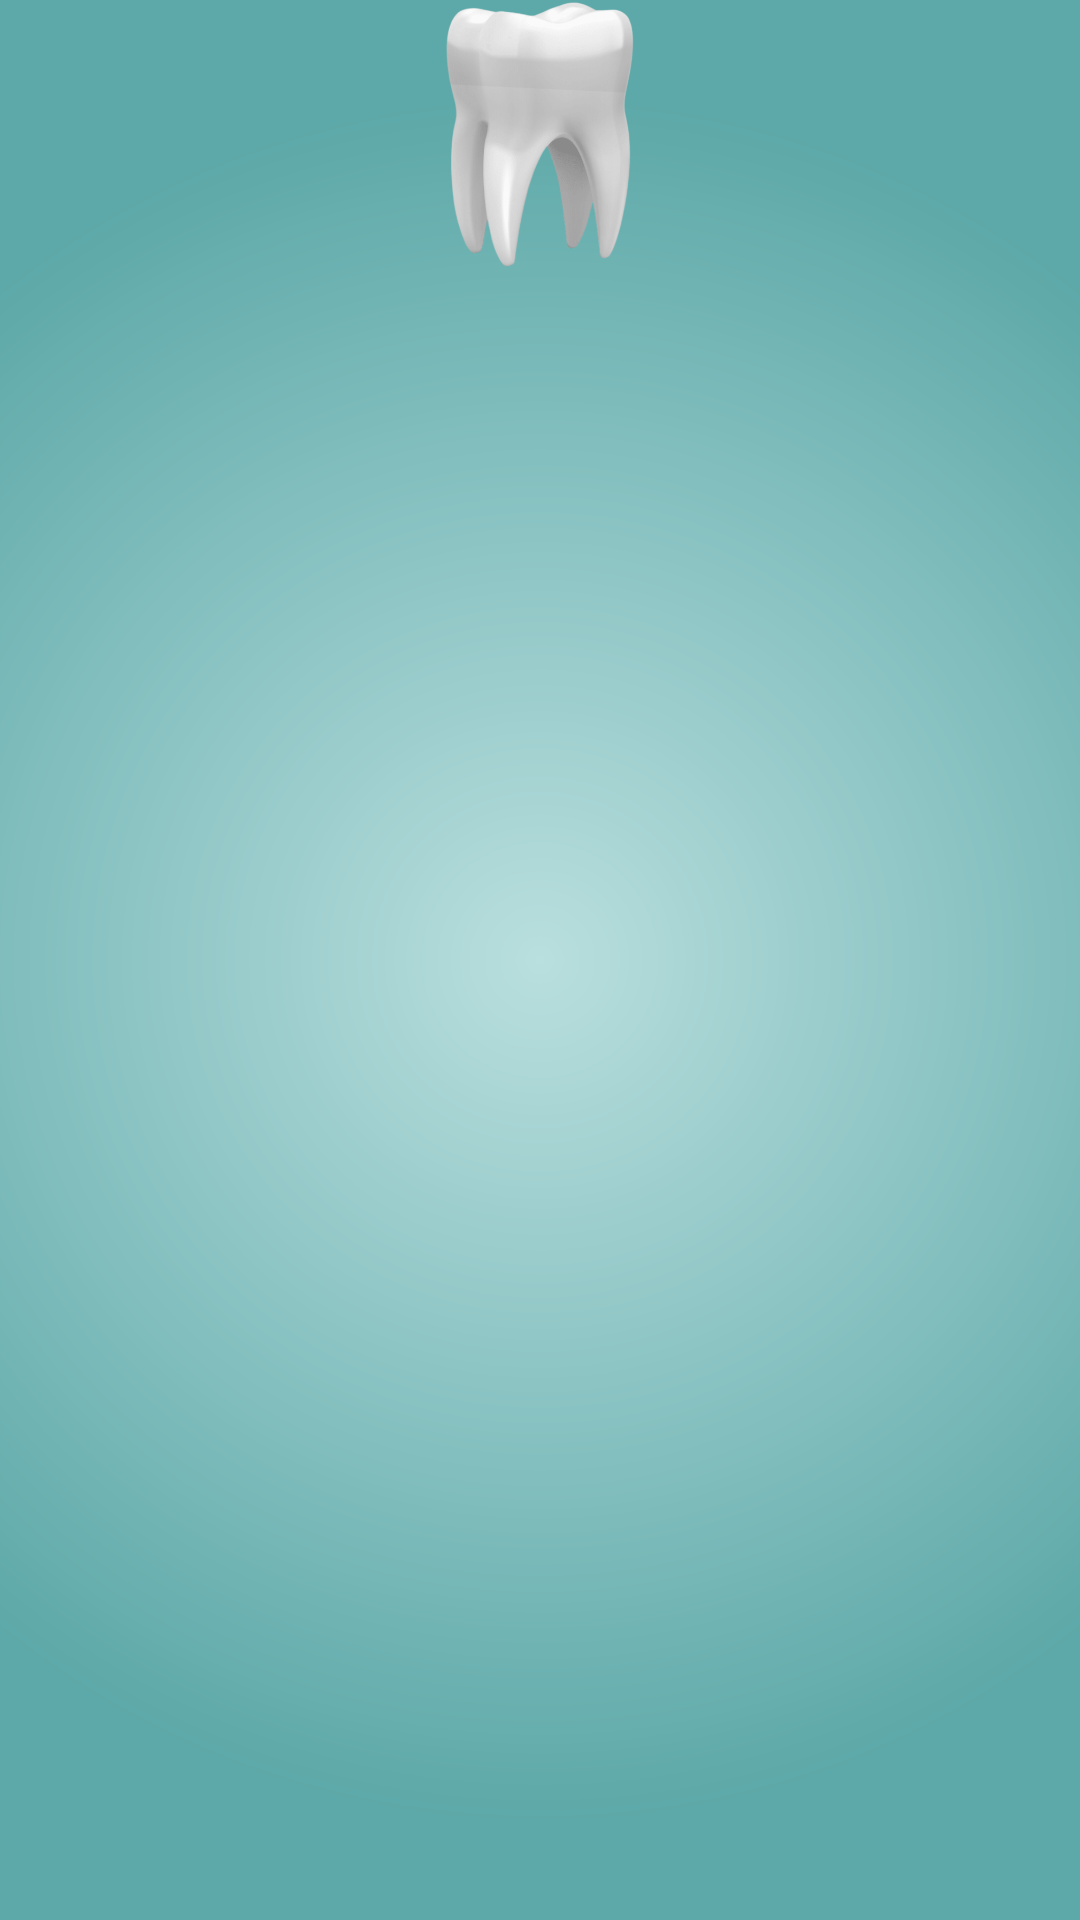

Screen size 1080x1920. Icon name, then its center in pixels as point (x, y):
Dente 3D: point (539, 134)
